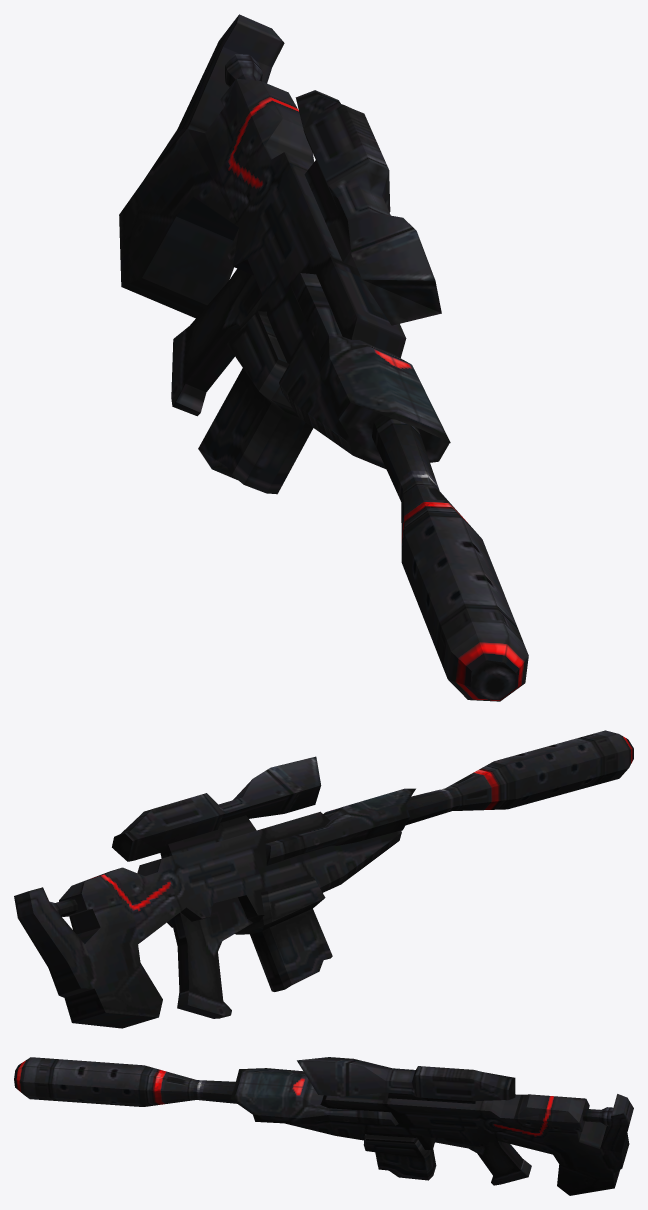
The model's file is Specture_Rifle.obj.
The picture shows the model from 3 angles, top to bottom: view 1: azimuth 30°, elevation 25°; view 2: azimuth 150°, elevation 25°; view 3: azimuth 270°, elevation 25°; orthographic projection. The views are drawn at different scales.
Parts seen in each view (by area): view 1: Shadow_Spectre.m3.007; view 2: Shadow_Spectre.m3.007; view 3: Shadow_Spectre.m3.007.
Boxes of the visible parts, x1=… form: Shadow_Spectre.m3.007: x1=119, y1=14, x2=528, y2=701; Shadow_Spectre.m3.007: x1=14, y1=730, x2=633, y2=1028; Shadow_Spectre.m3.007: x1=14, y1=1057, x2=633, y2=1195.
Bounding box in the file's own units: 0.3164 × 0.2164 × 0.8271.
1 material, 1 textured.
